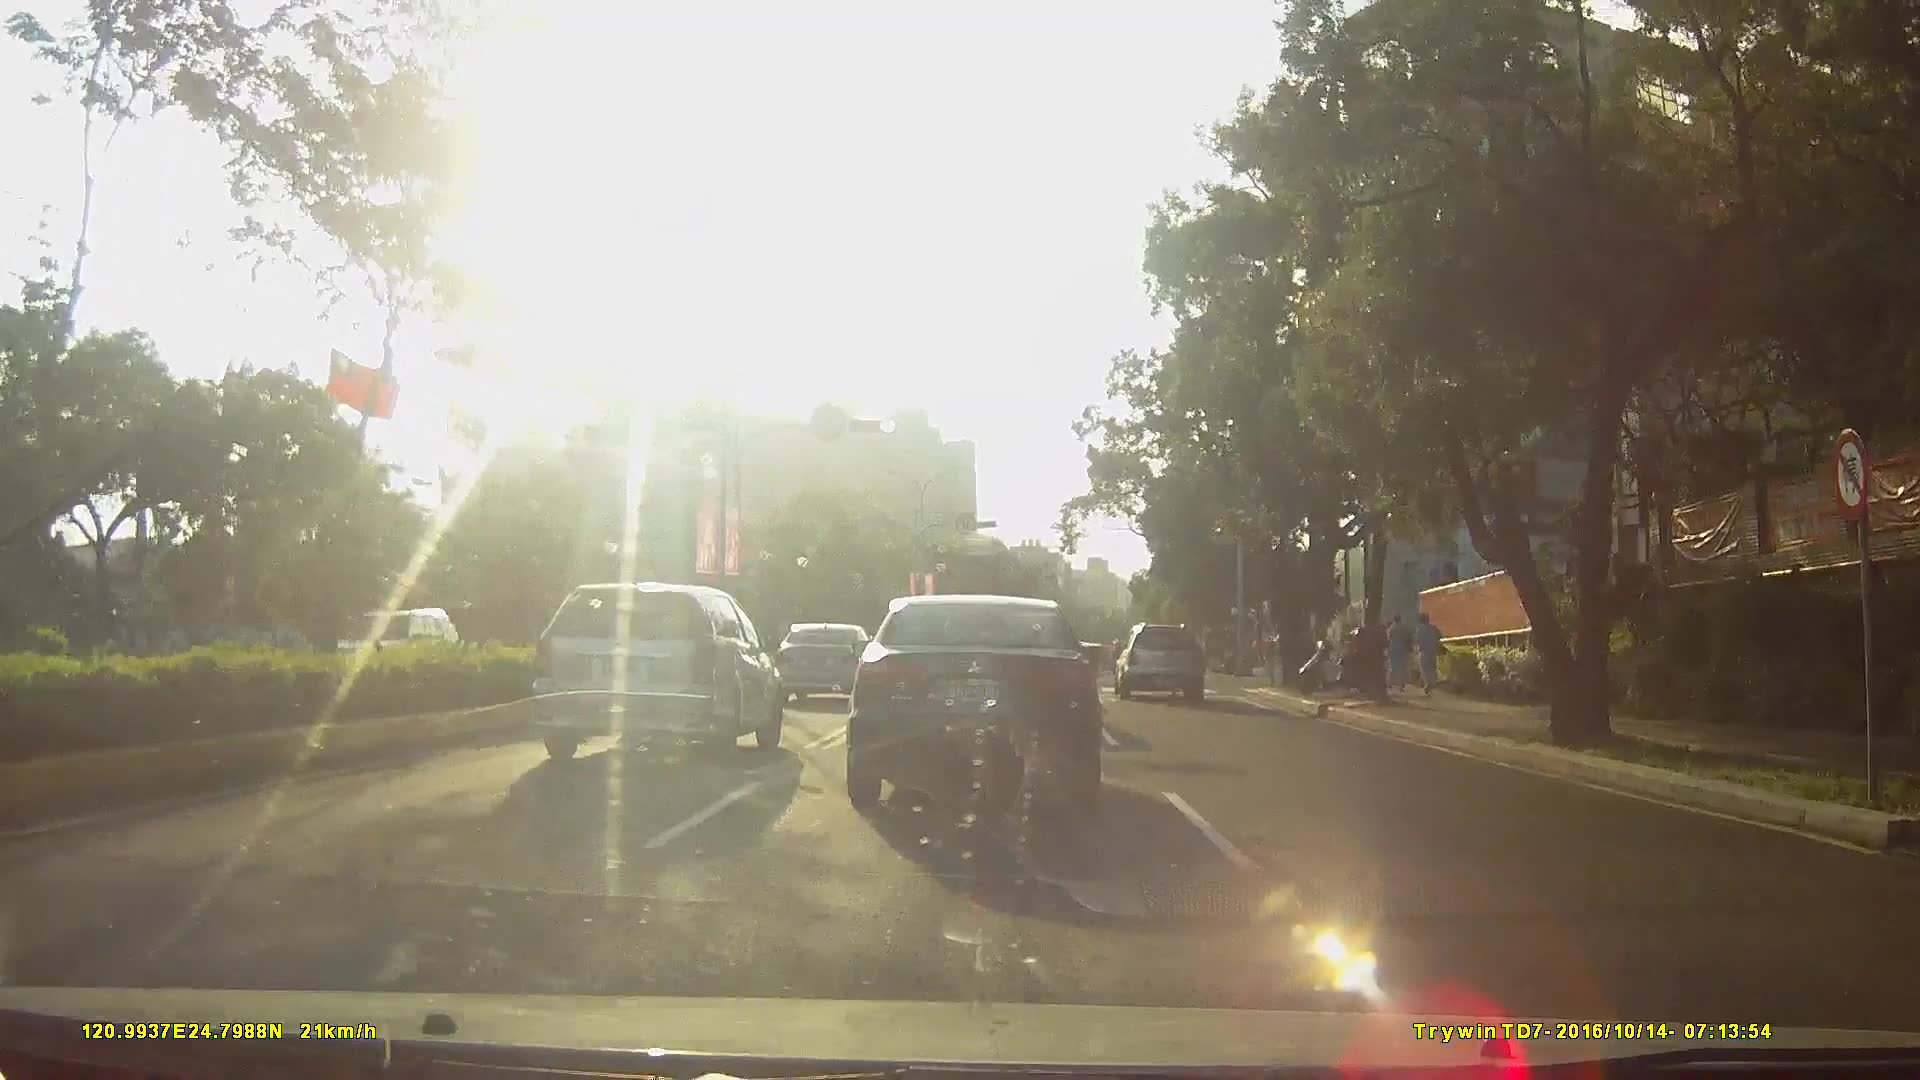pedestrian: (1412, 617, 1448, 705), (1386, 614, 1414, 693)
vehicle: (841, 595, 1102, 821), (525, 581, 783, 765), (333, 606, 472, 703), (774, 624, 877, 714), (1111, 623, 1213, 707)
